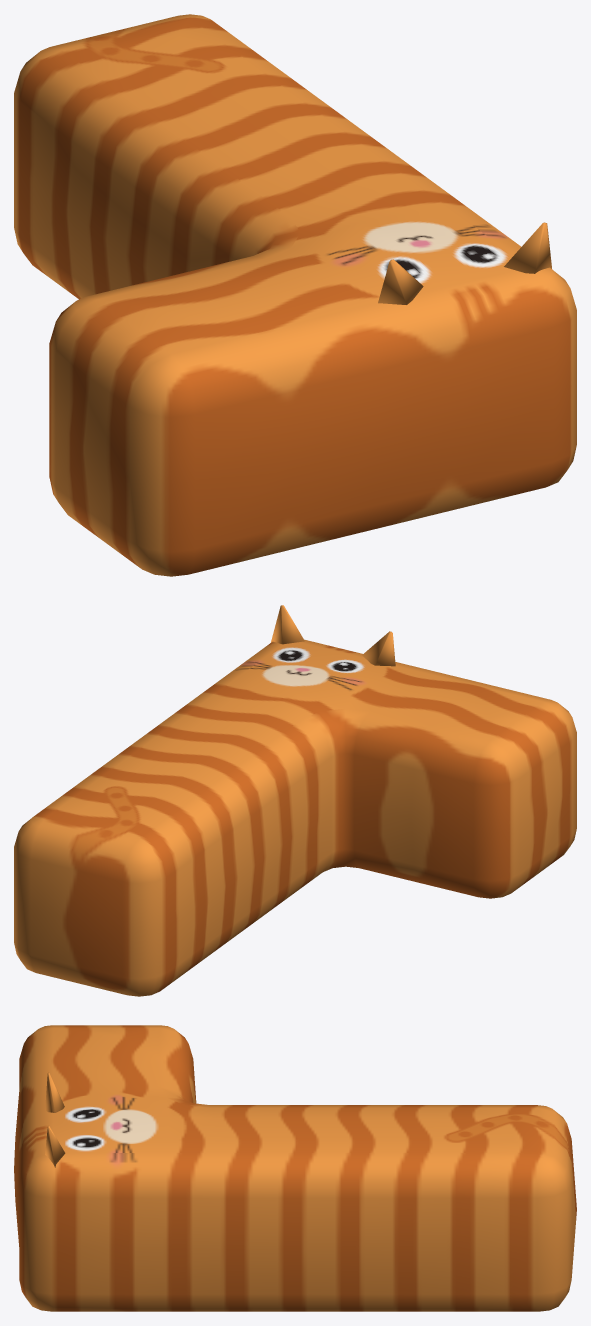
Rendered from Cat_LMirror.fbx.
3 renders of one model, top to bottom at view 1: azimuth 30°, elevation 25°; view 2: azimuth 150°, elevation 25°; view 3: azimuth 270°, elevation 25°, orthographic. The views are drawn at different scales.
Visible parts, largest first — view 1: Cat_LMirror; view 2: Cat_LMirror; view 3: Cat_LMirror.
Part boxes in pixels (x1,y1,x2,y2): Cat_LMirror: (14, 14, 576, 576); Cat_LMirror: (14, 605, 576, 996); Cat_LMirror: (14, 1025, 576, 1311).
Bounding box in the file's own units: 1.98 × 1.05 × 2.98.
Materials: 1 (1 with a texture image).
